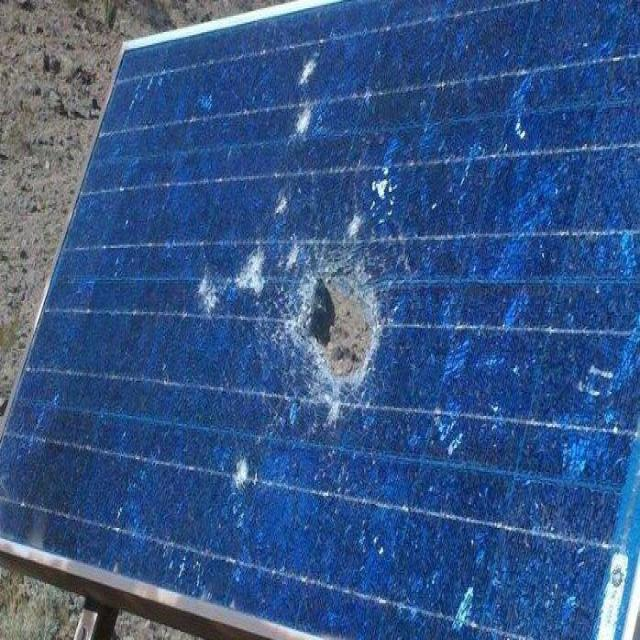Anomaly Solar Panel: (0, 0, 638, 640)
Structural Damage: (188, 85, 420, 509)
